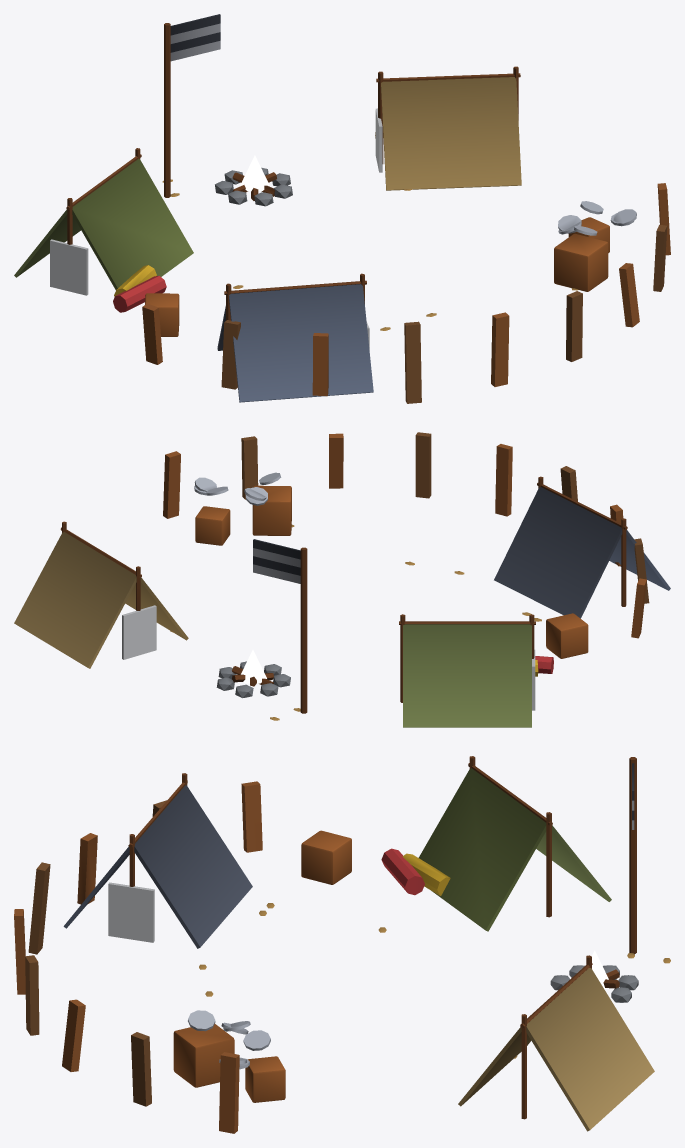
Rendered from st_camp.glb.
3 views of the same model, one above another, from view 1: azimuth 30°, elevation 25°; view 2: azimuth 150°, elevation 25°; view 3: azimuth 270°, elevation 25° (orthographic). The views are drawn at different scales.
Visible parts, largest first — view 1: body, sway_flag, pulse_fire_glow; view 2: body, sway_flag, pulse_fire_glow; view 3: body.
Part boxes in pixels (<box>): body: <box>14,23,670,403</box>; sway_flag: <box>170,14,220,61</box>; pulse_fire_glow: <box>240,155,269,191</box>; body: <box>14,432,670,727</box>; sway_flag: <box>253,539,300,583</box>; pulse_fire_glow: <box>241,650,266,683</box>; body: <box>14,756,670,1133</box>.
Size of the model in its own units: 8.87 by 2.92 by 8.58.
